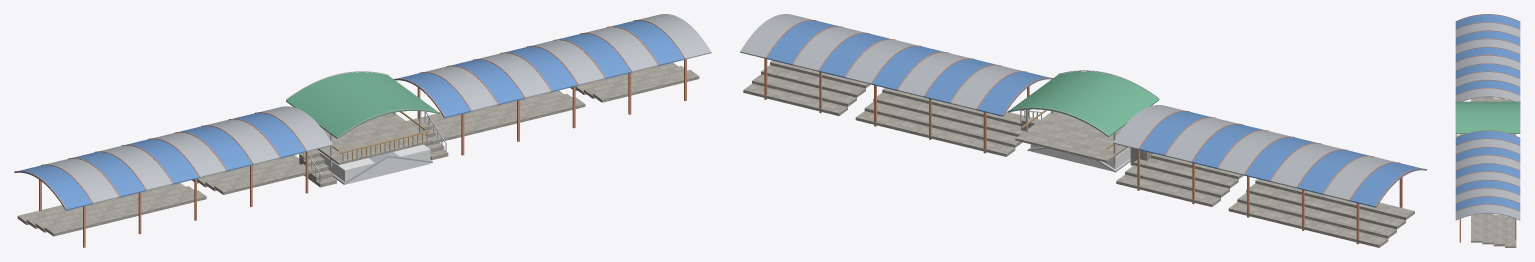
3 renders of one model, left to right at view 1: azimuth 30°, elevation 25°; view 2: azimuth 150°, elevation 25°; view 3: azimuth 270°, elevation 25°, orthographic. The views are drawn at different scales.
Visible parts, largest first — view 1: stand-podium__stone, stand-podium__metalroof, stand-podium__blue, stand-podium__canopy, stand-podium__terracotta, stand-podium__panel, stand-podium__steel, stand-podium__wood; view 2: stand-podium__stone, stand-podium__metalroof, stand-podium__blue, stand-podium__canopy, stand-podium__terracotta, stand-podium__panel, stand-podium__steel; view 3: stand-podium__metalroof, stand-podium__blue, stand-podium__canopy, stand-podium__terracotta, stand-podium__stone, stand-podium__steel.
Boxes of the visible parts, x1,y1,x2,y2 form: stand-podium__stone: (17, 62, 699, 236); stand-podium__metalroof: (46, 14, 711, 203); stand-podium__blue: (14, 20, 684, 210); stand-podium__canopy: (286, 72, 439, 138); stand-podium__terracotta: (14, 20, 686, 247); stand-podium__panel: (316, 144, 430, 184); stand-podium__steel: (286, 71, 446, 183); stand-podium__wood: (332, 111, 429, 161); stand-podium__stone: (743, 60, 1414, 247); stand-podium__metalroof: (740, 14, 1395, 201); stand-podium__blue: (766, 20, 1426, 207); stand-podium__canopy: (1007, 71, 1159, 137); stand-podium__terracotta: (764, 19, 1426, 244); stand-podium__panel: (1030, 144, 1130, 171); stand-podium__steel: (1008, 70, 1159, 163); stand-podium__metalroof: (1455, 22, 1520, 220); stand-podium__blue: (1455, 14, 1520, 211); stand-podium__canopy: (1455, 101, 1520, 133); stand-podium__terracotta: (1455, 14, 1520, 242); stand-podium__stone: (1460, 97, 1516, 247); stand-podium__steel: (1455, 101, 1520, 132).
Size of the model in its own units: 58 by 5.56 by 8.07.
Materials: 8 (1 with a texture image).
